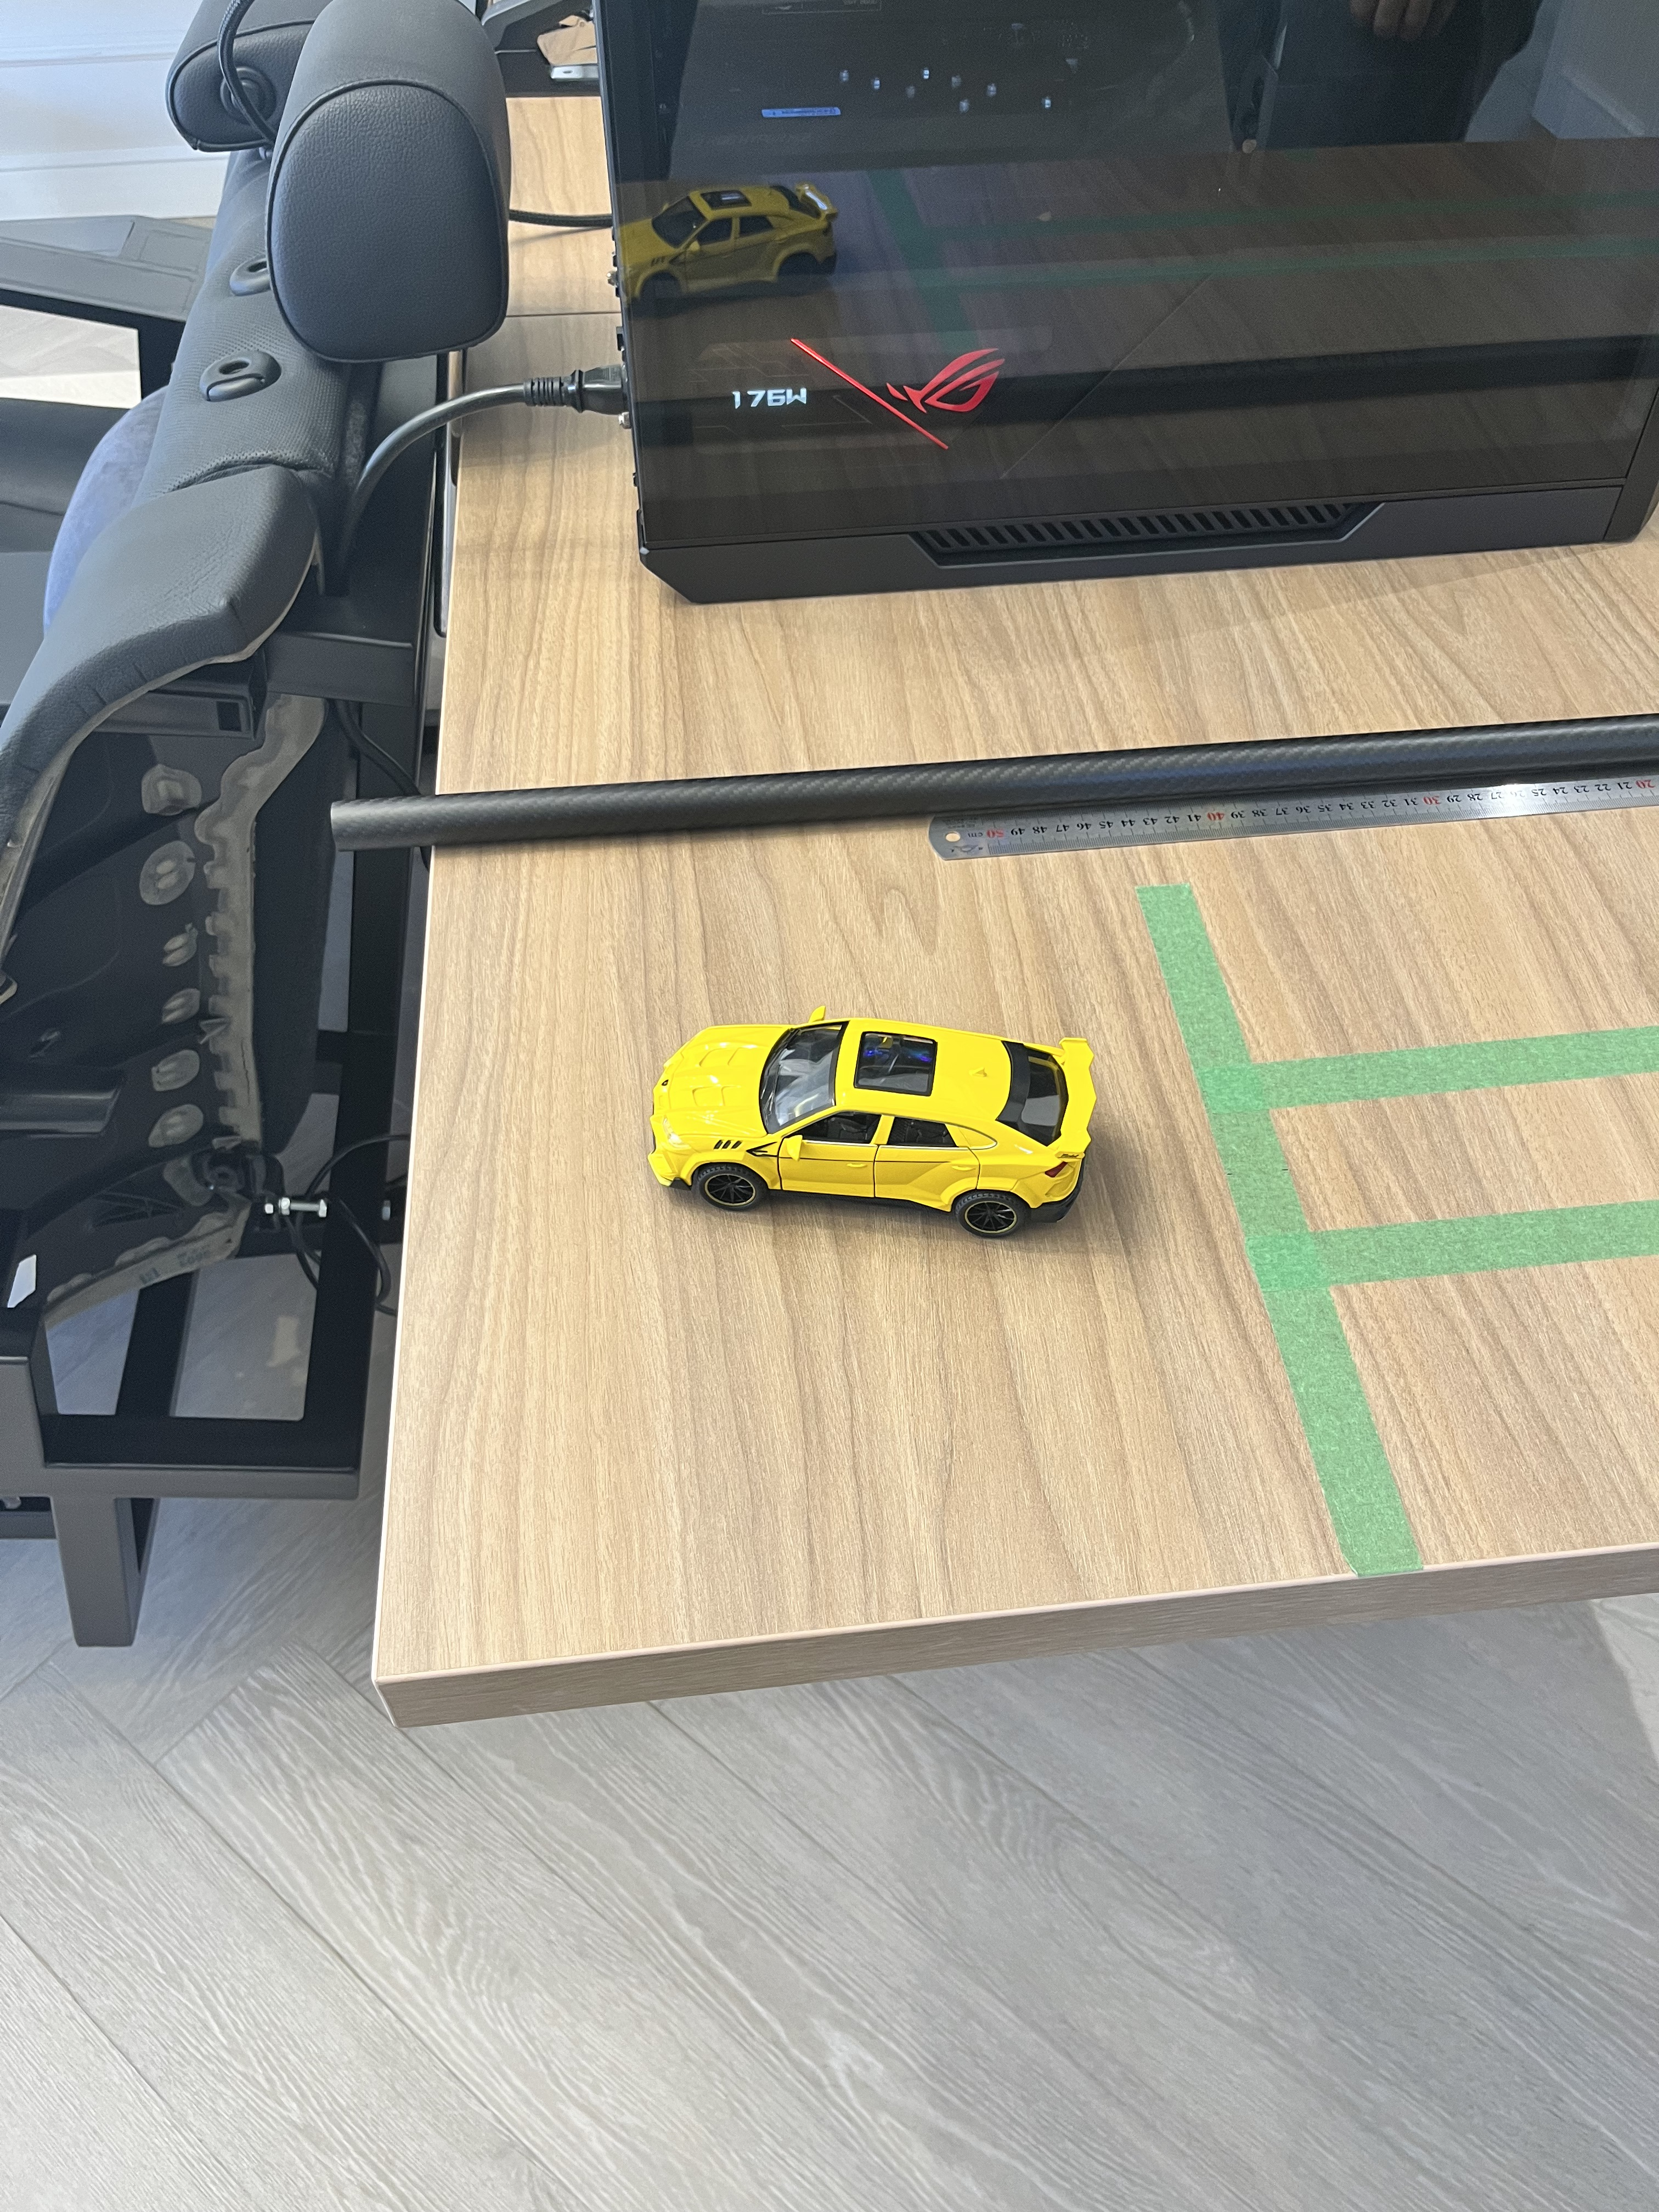lambo: (645, 1015, 1098, 1237)
